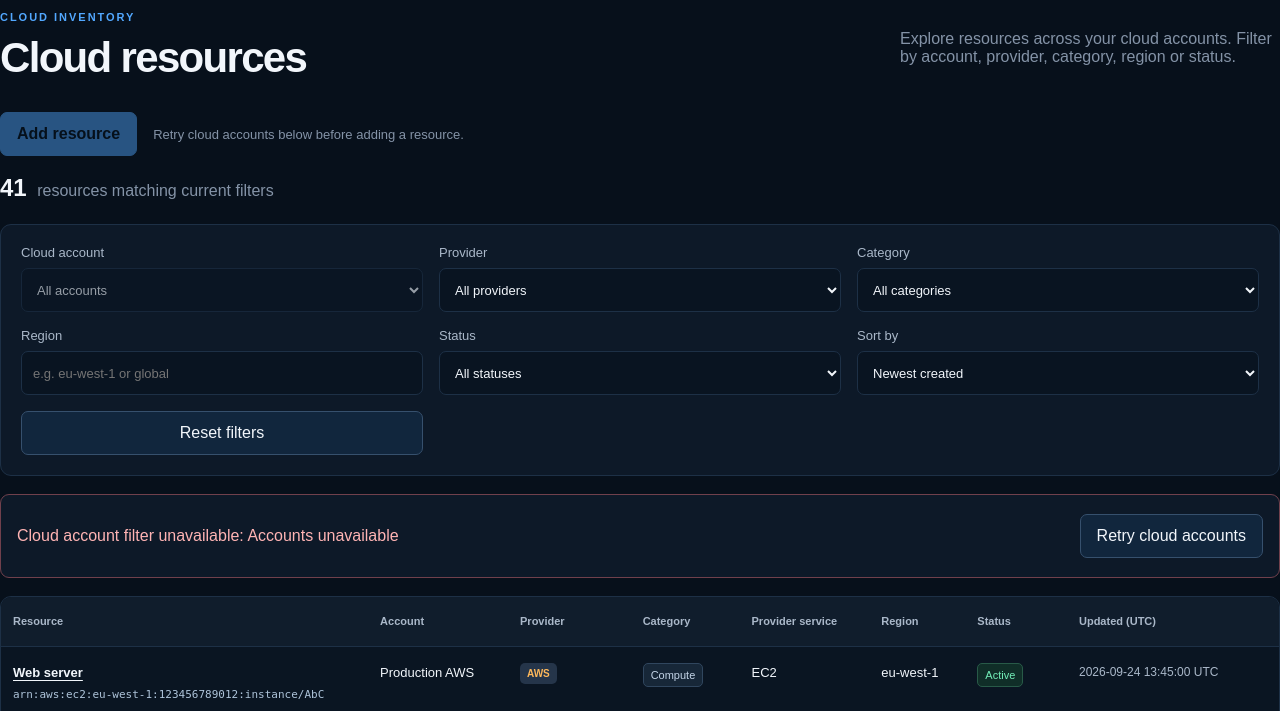
Scenario: Cloud resource inventory › loads resources despite an account-filter error and retries accounts independently
Expected: the message shows "Cloud account filter unavailable: Accounts unavailable", x1=0 y1=494 x2=1279 y2=578
Expected: the dropdown labelled "Cloud account" is disabled, x1=21 y1=268 x2=423 y2=312
Click the button "Retry cloud accounts": (1171,536) x1=1080 y1=514 x2=1263 y2=558
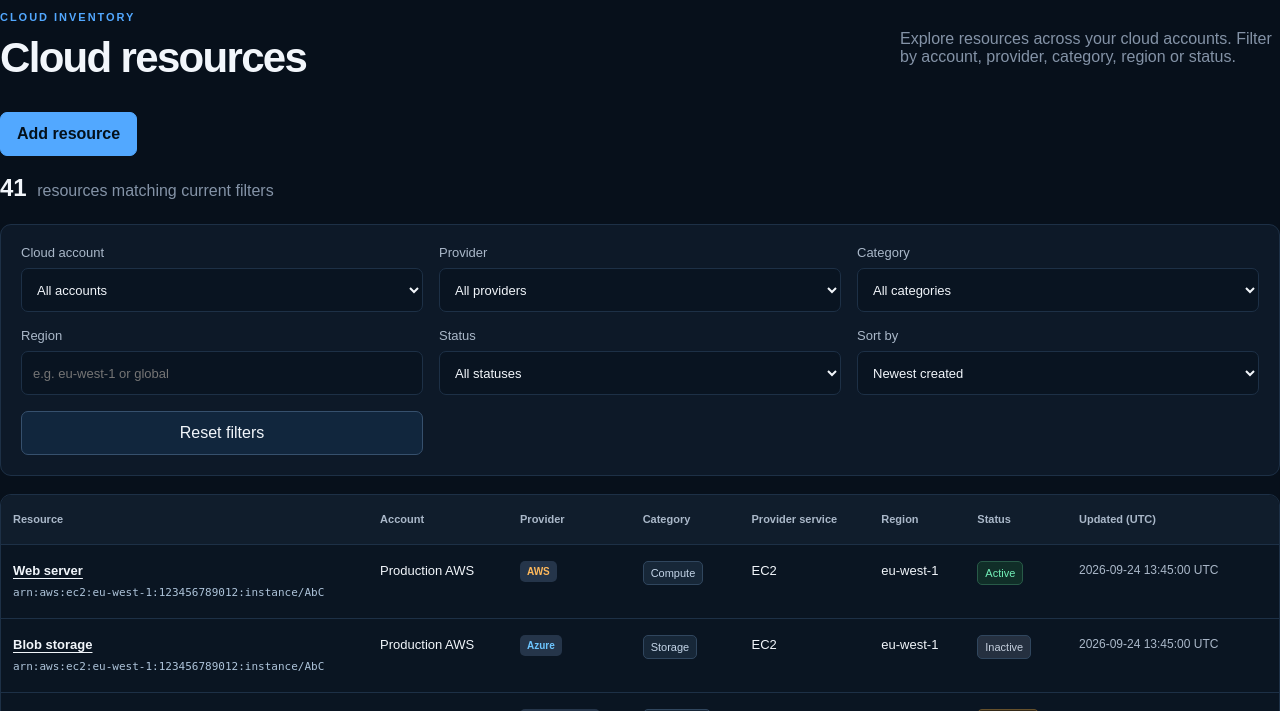
Now the dropdown labelled "Cloud account" is enabled, box x1=21 y1=268 x2=423 y2=312
Now the message "Cloud account filter unavailable: Accounts unavailable Retry cloud accounts" is gone
